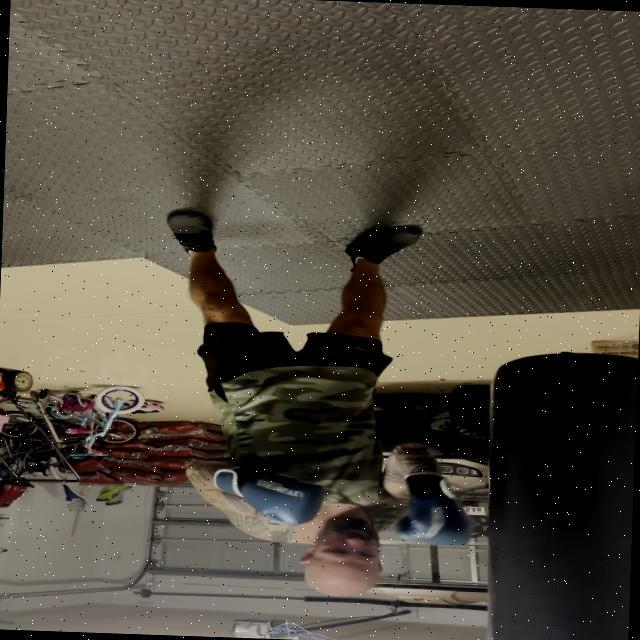bag: (471, 341, 640, 640)
uppercut: (179, 416, 489, 606)
